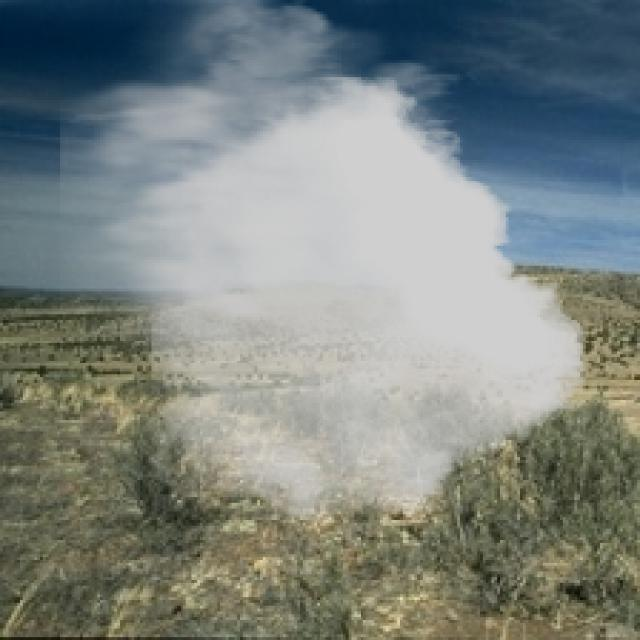smoke: (60, 0, 586, 523)
